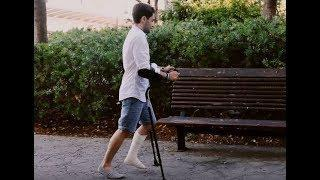crutches: (102, 1, 176, 180)
